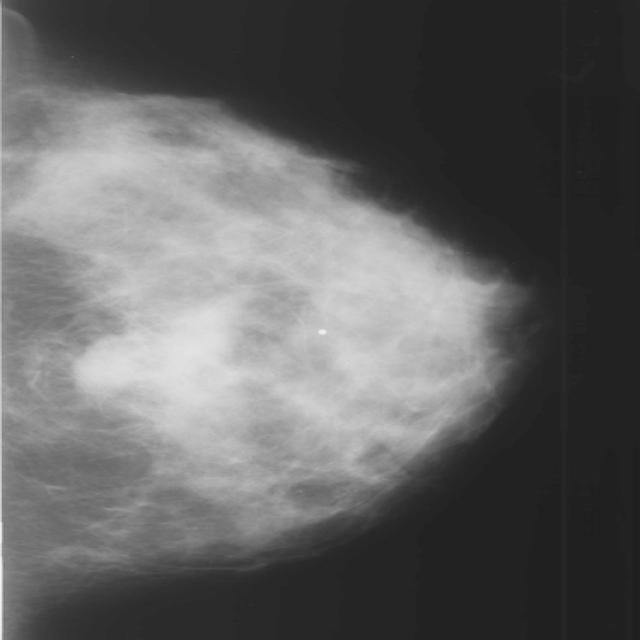tumour: (70, 323, 244, 396)
